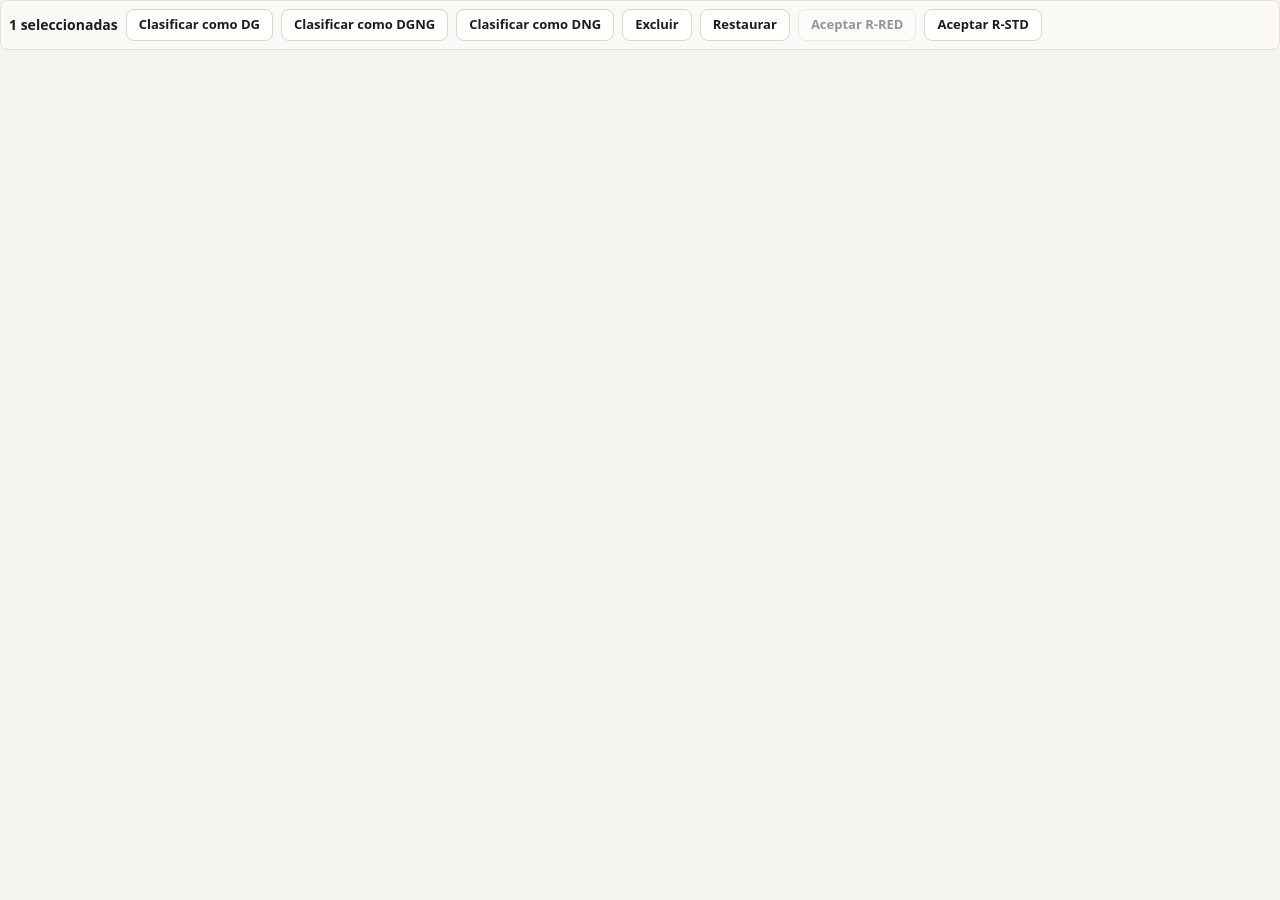
BarraMasiva · «Recordar» tras aceptar R-STD (CA-10) › sin reglas.gestionar no hay «Recordar»
The width and height of the screenshot is (1280, 900).
Click the button "Aceptar R-STD".
click(983, 25)  # box [924, 9, 1042, 41]
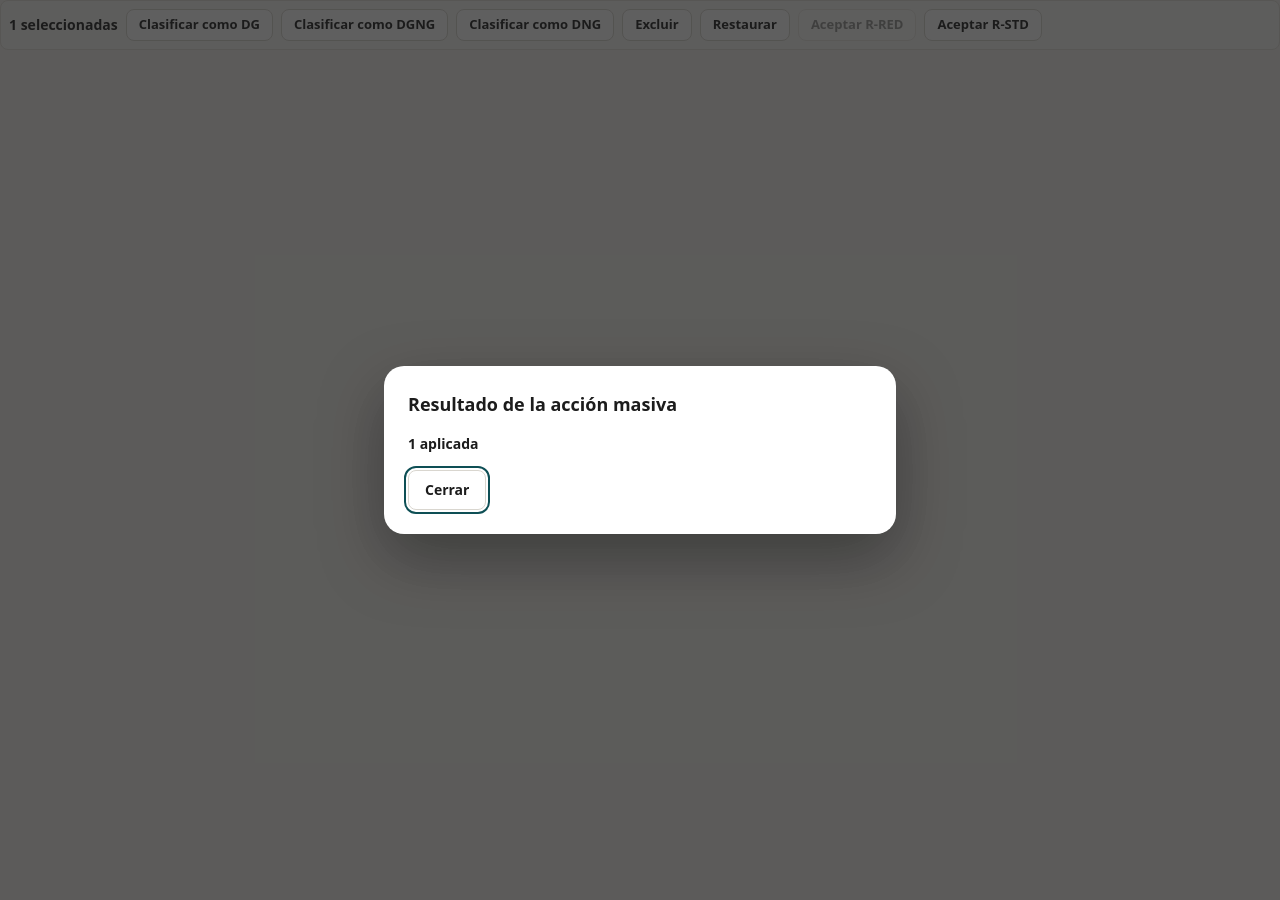
Check: the dialog is shown, box [384, 366, 896, 534]
